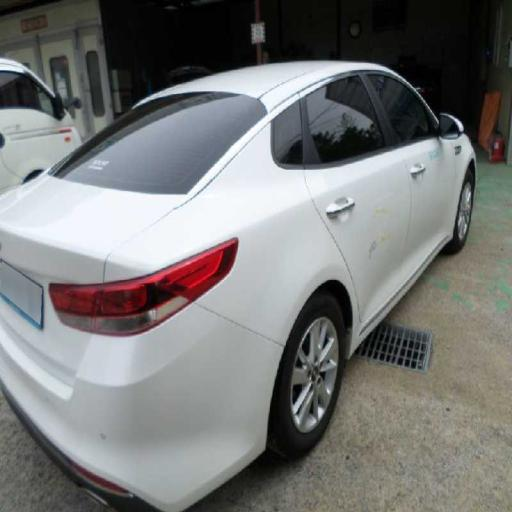normal: (16, 85, 462, 441)
